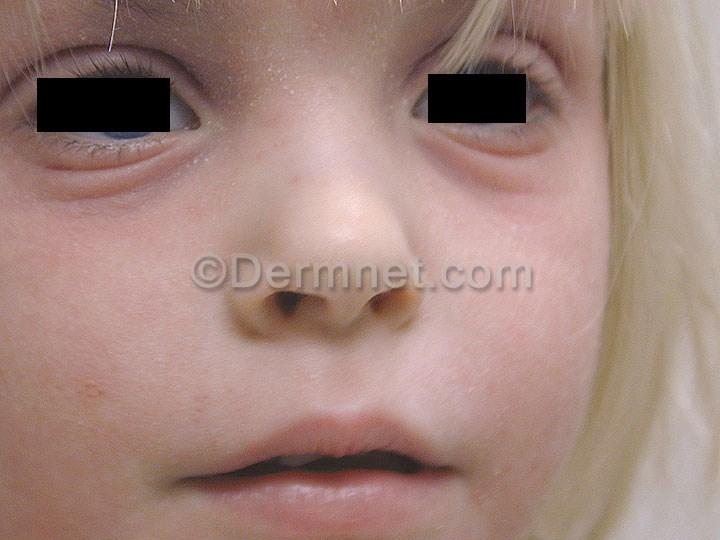xerosis 1: (72, 11, 316, 100)
